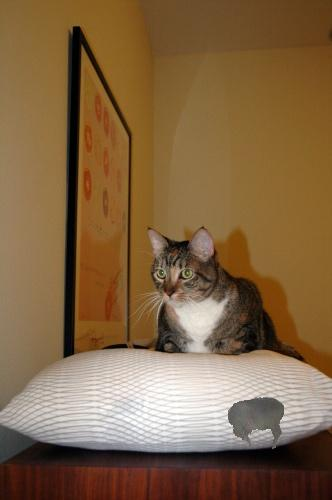tampered: (229, 398, 284, 449)
